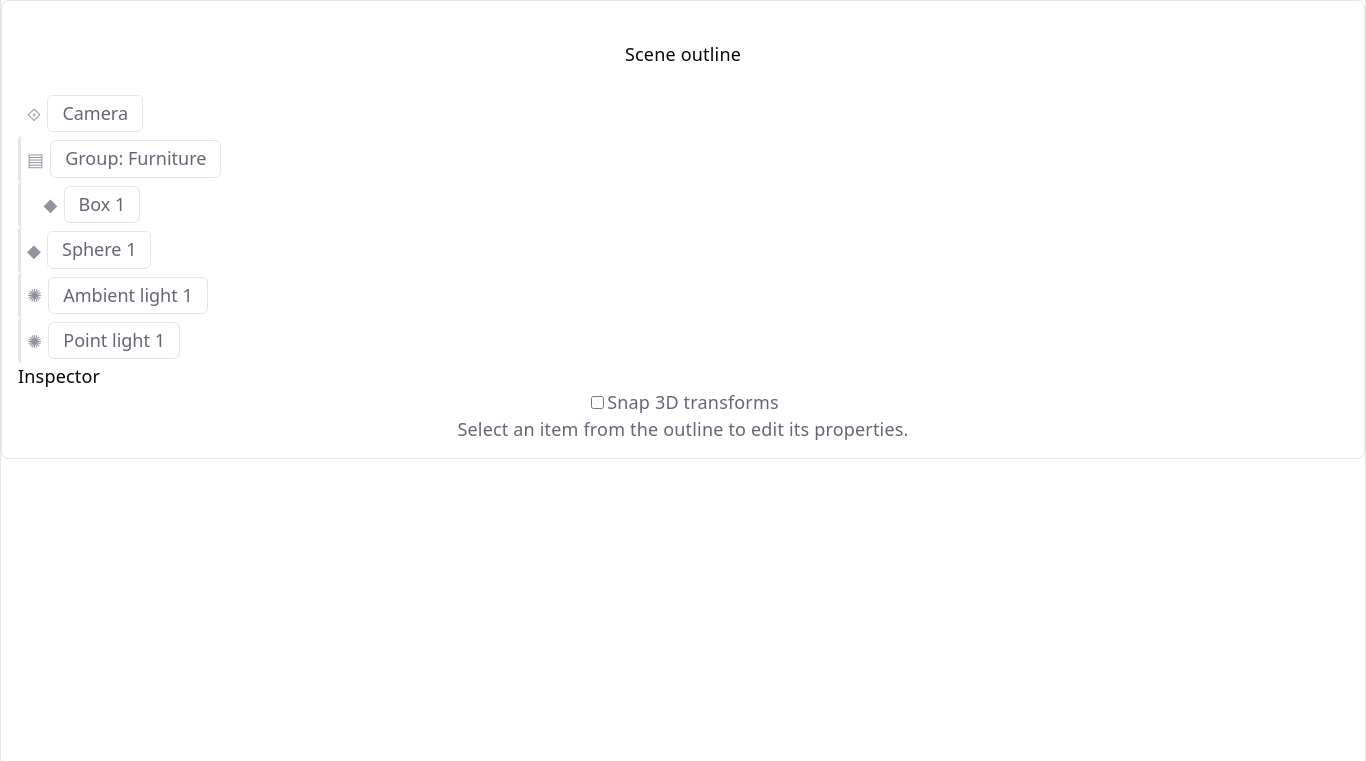
it: Outline3DInspector › clearable selection (issue #396) › offers an explicit Clear selection action that returns to the no-selection state
The width and height of the screenshot is (1366, 761).
Click the button "Sphere 1".
click(99, 250)  # box top-left (47, 231), bottom-right (151, 268)
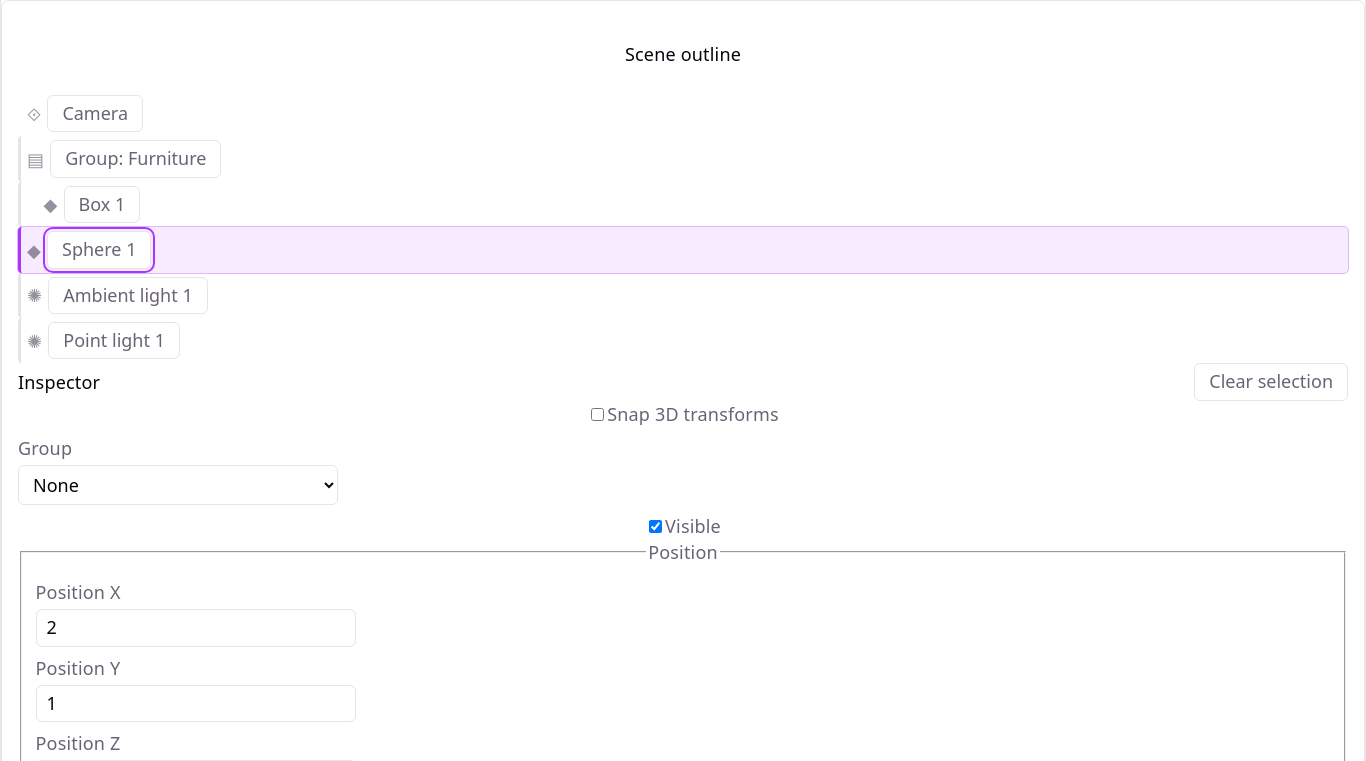
Click the button "Clear selection".
click(1271, 382)  # box top-left (1194, 363), bottom-right (1348, 401)
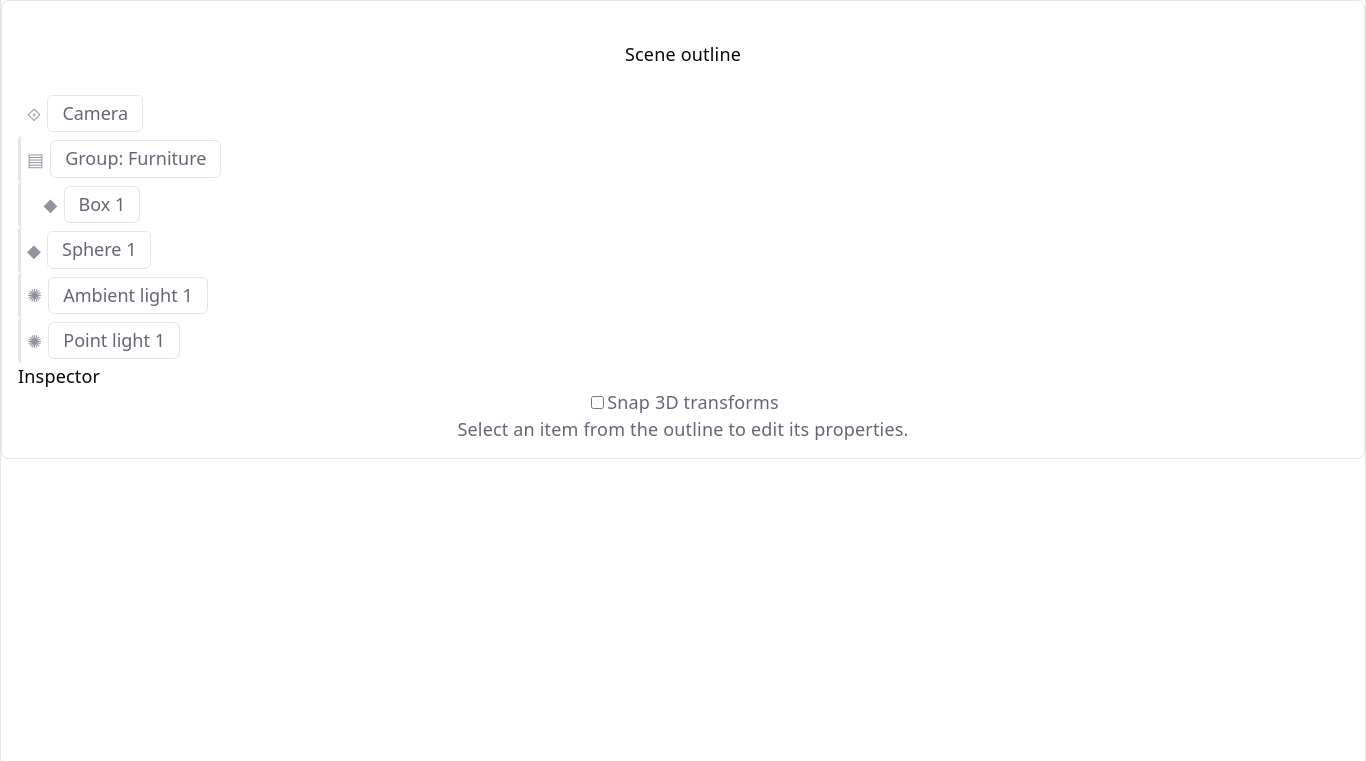
Now the text "Select an item from the outline to edit its properties." is shown, box top-left (457, 416), bottom-right (908, 440)
Now the button "Clear selection" is gone
